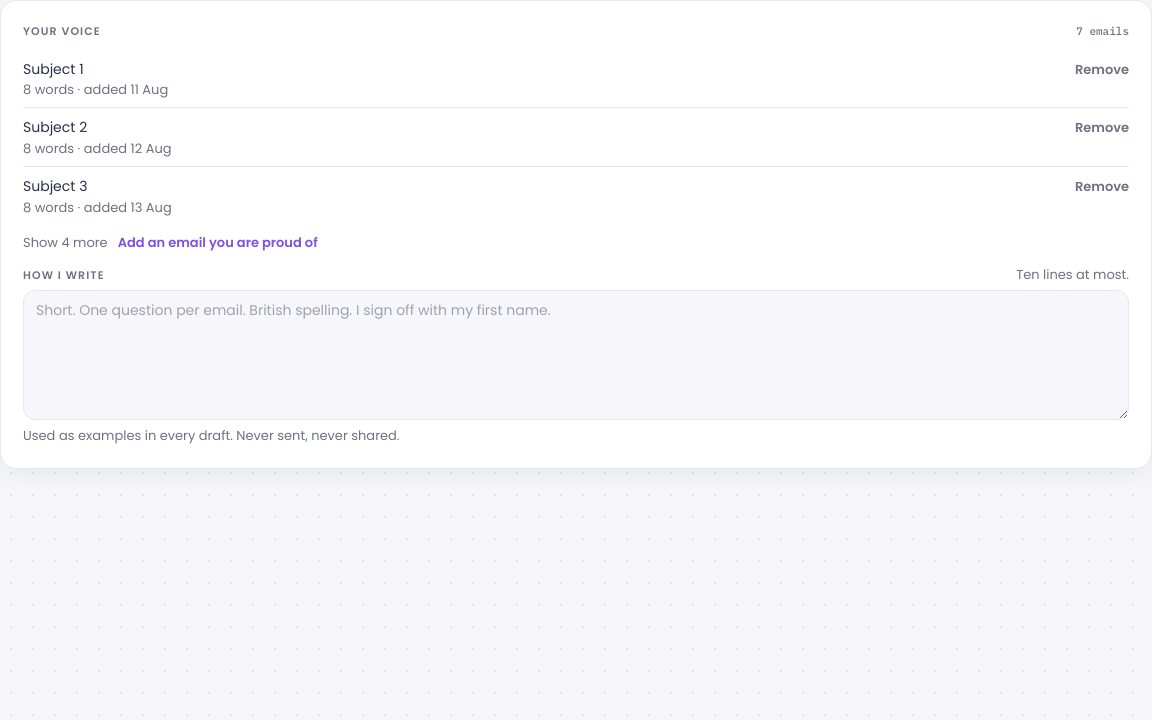
Scenario: the Your voice card › unfolds the list on one button with aria-expanded, and folds it again
The width and height of the screenshot is (1152, 720).
Step 1. Click the button "Show 4 more" → (65, 243), box [23, 233, 108, 253]
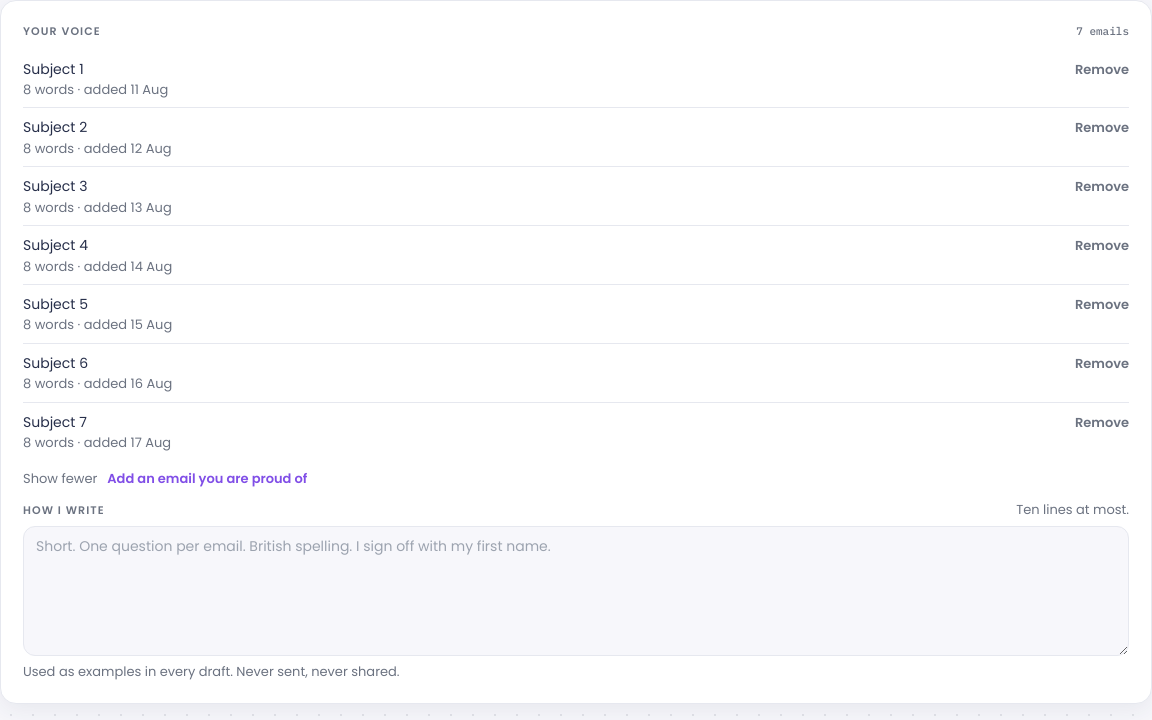
Result: the number of list items with test id "voice-sample" is 7
Result: the button "Show fewer" is expanded
Step 2. Click the button "Show fewer" → (60, 478), box [23, 469, 97, 488]
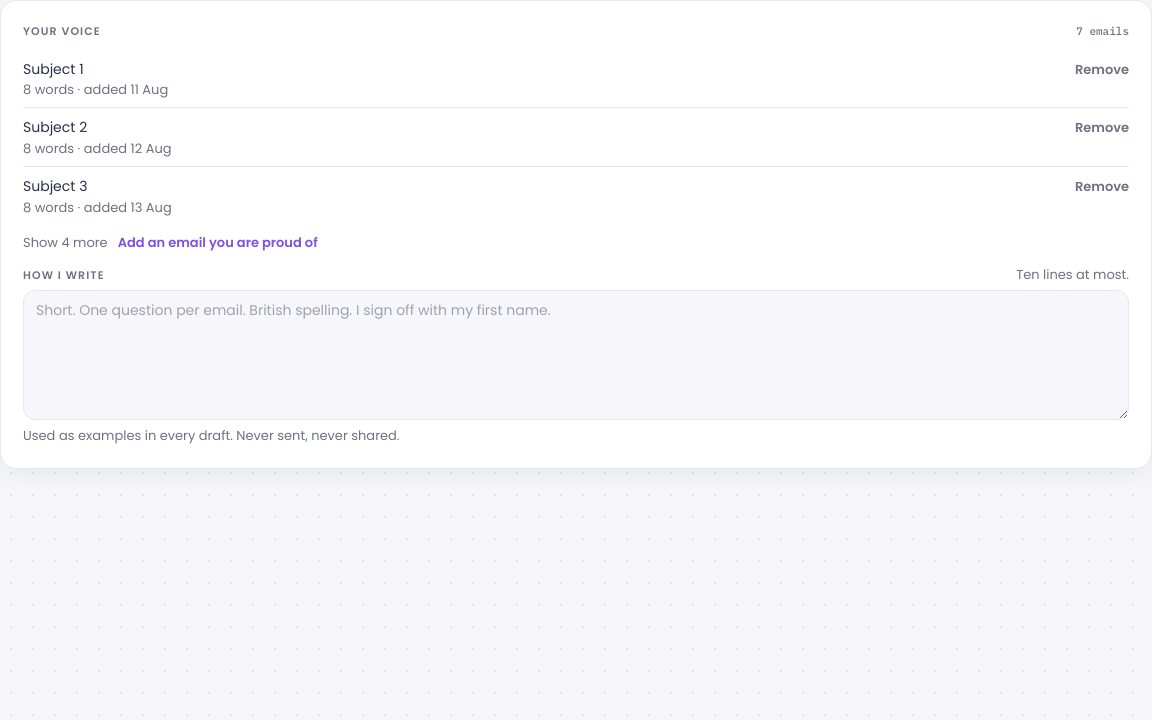
Result: the number of list items with test id "voice-sample" is 3 at [23, 50, 1129, 107]; [23, 107, 1129, 166]; [23, 166, 1129, 225]
